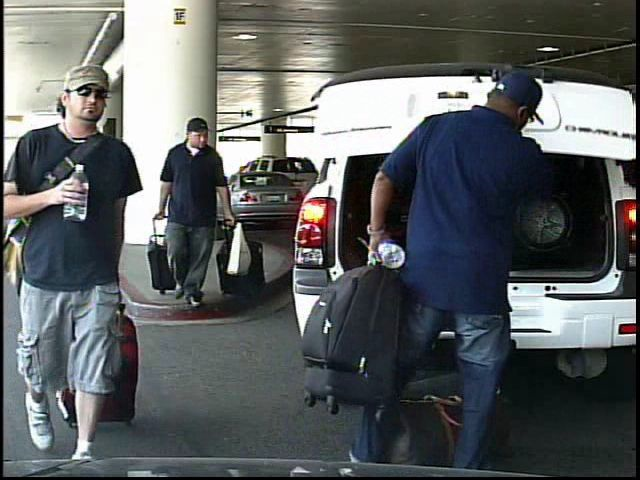person: (355, 74, 541, 476), (6, 62, 168, 479), (154, 114, 254, 313)
